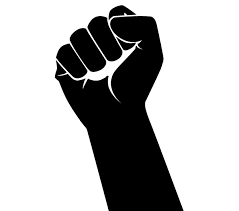fist: (59, 12, 161, 116)
